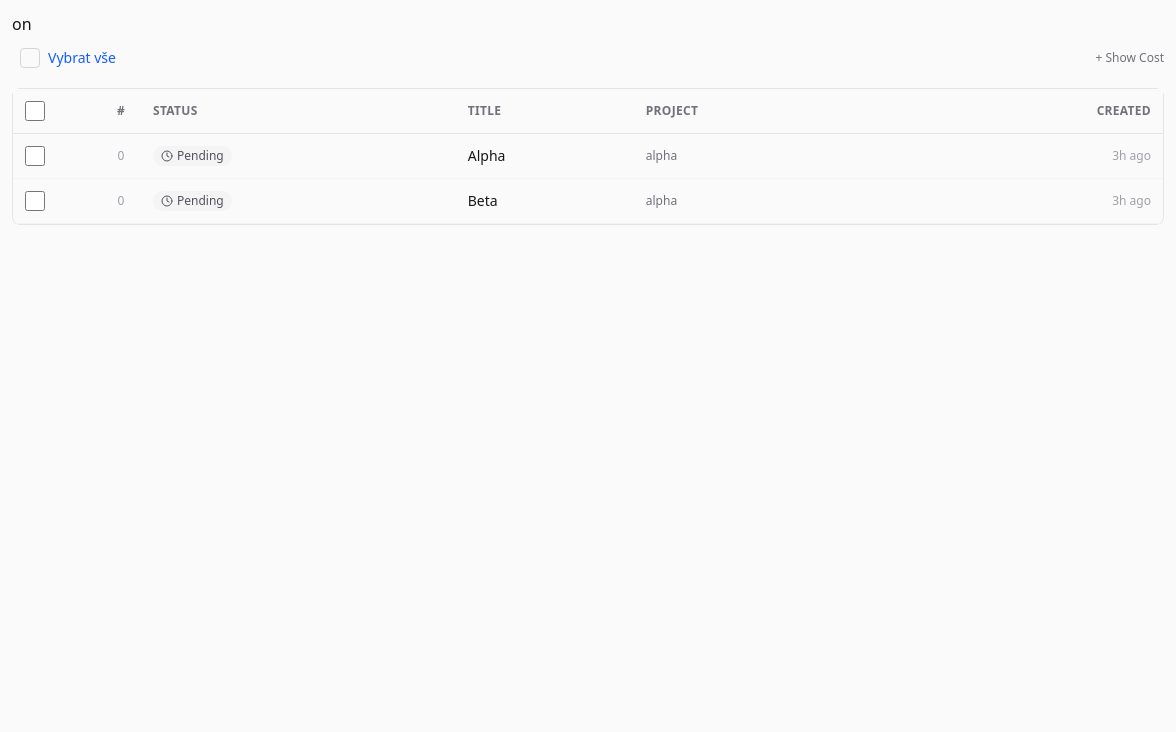
it: TaskList selection mode › on mobile puts the secondary actions behind the overflow menu
Click the row "0 Pending Alpha alpha 3h ago".
click(588, 156)  # box [13, 134, 1163, 178]
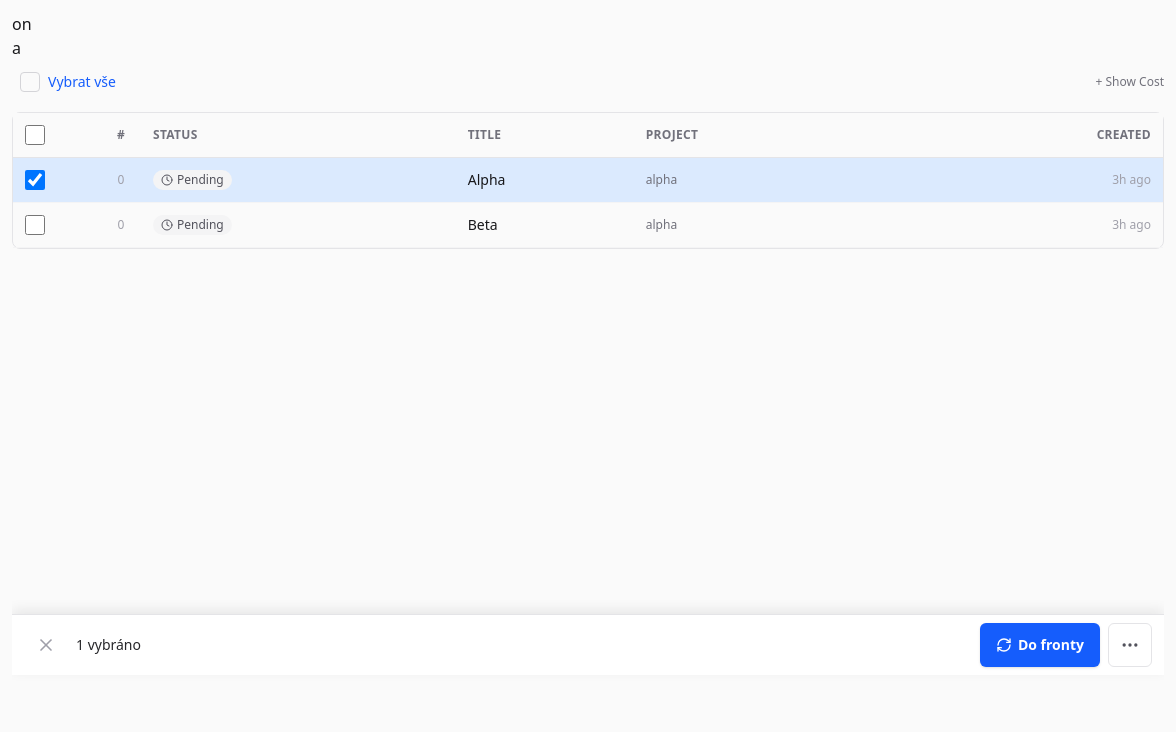
Expected: the button "Smazat" is not shown
Expected: the button "Do fronty" is shown, [980, 623, 1100, 667]
Click the button named "Další akce".
click(1130, 645)  # box [1108, 623, 1152, 667]
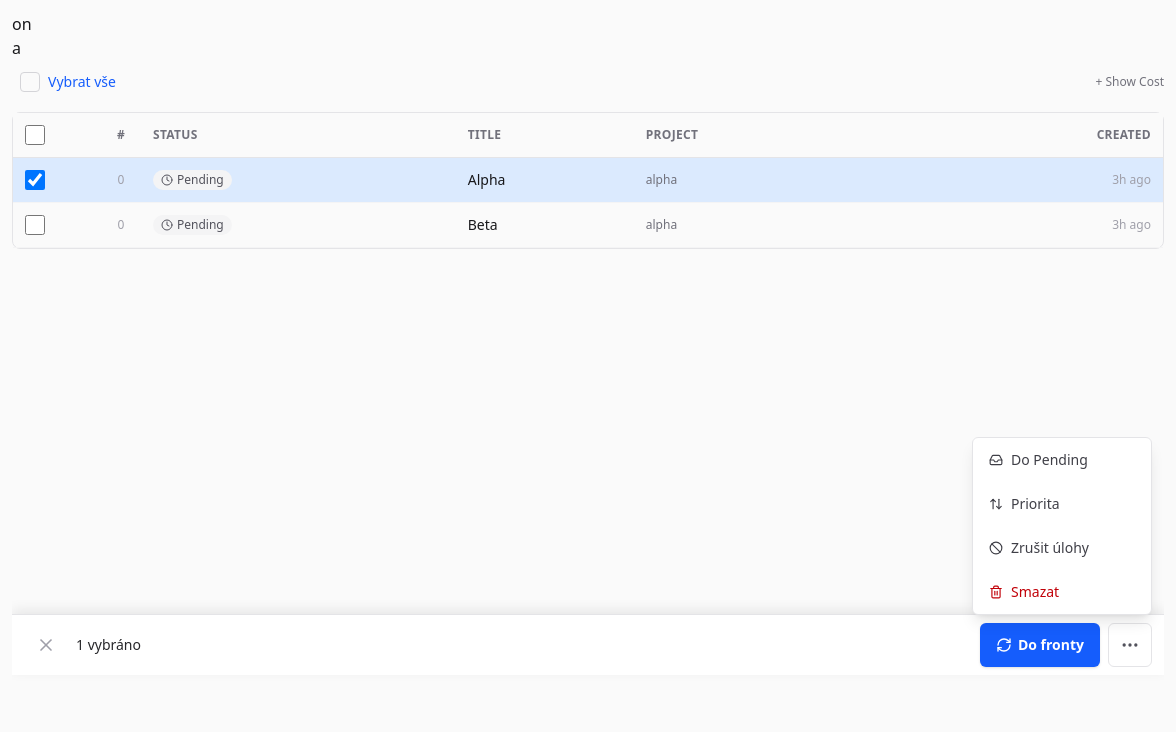
Expected: the menu item "Smazat" is shown, [973, 570, 1151, 614]
Expected: the menu item "Do Pending" is shown, [973, 438, 1151, 482]
